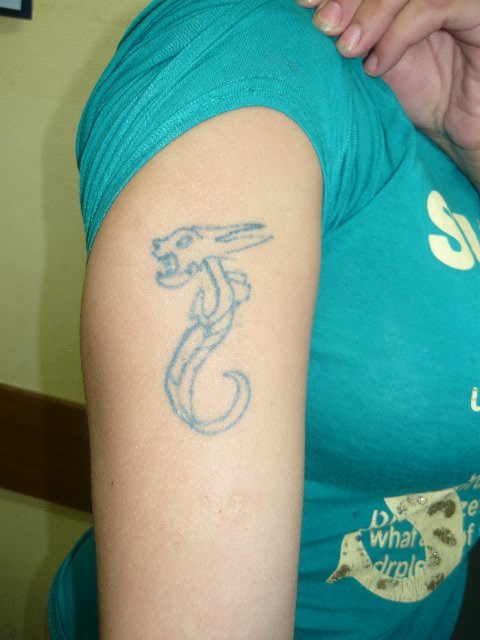tatu6_drakon: (132, 208, 286, 450)
